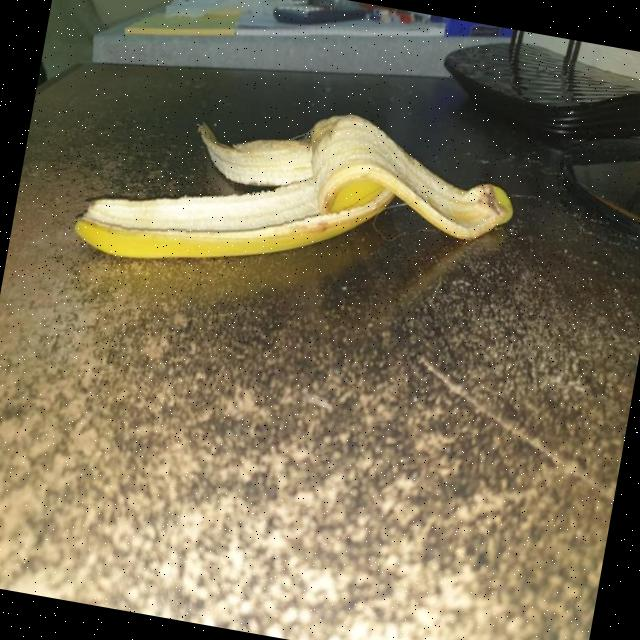banana-peel: (69, 67, 525, 322)
